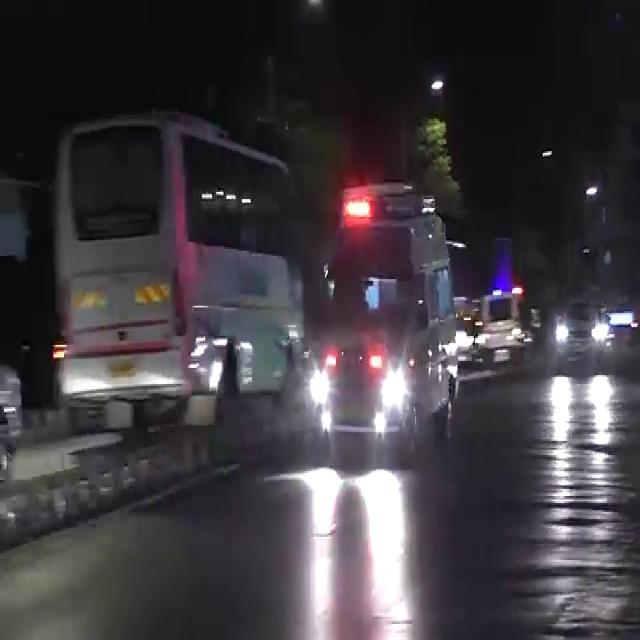ambulance: (317, 185, 458, 442)
